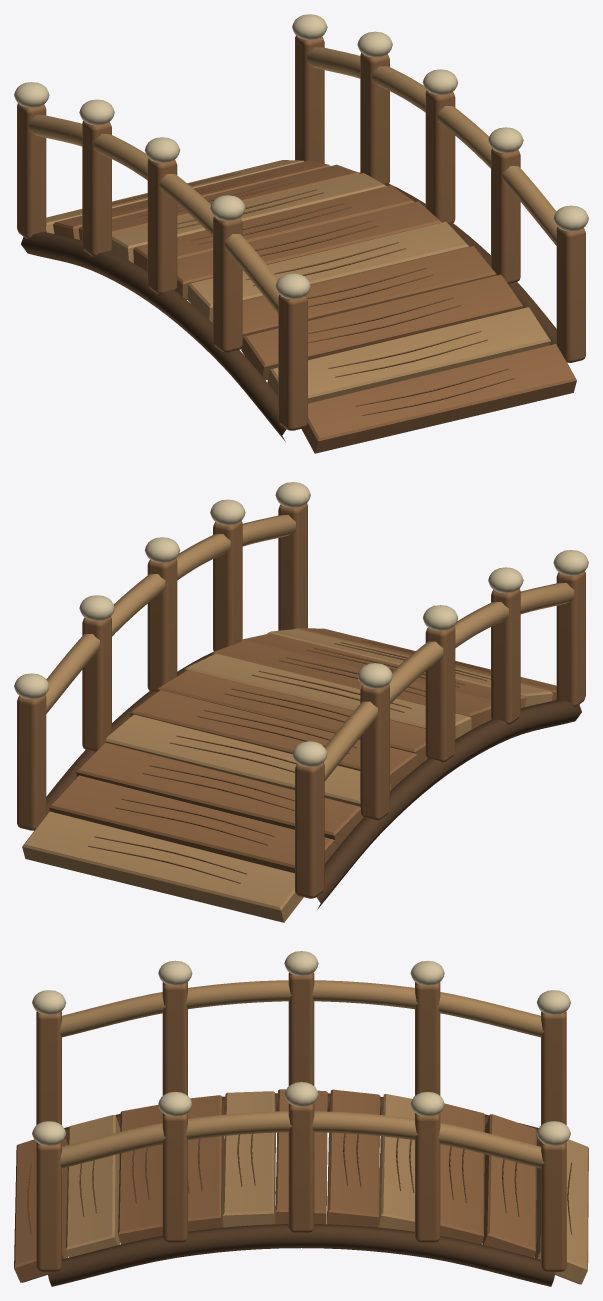
Rendered from puente_madera.glb.
3 views of the same model, one above another, from view 1: azimuth 30°, elevation 25°; view 2: azimuth 150°, elevation 25°; view 3: azimuth 270°, elevation 25° (orthographic). The views are drawn at different scales.
Parts seen in each view (by area): view 1: puente_madera; view 2: puente_madera; view 3: puente_madera.
Boxes of the visible parts, x1,y1,x2,y2 form: puente_madera: [14, 14, 588, 453]; puente_madera: [14, 482, 588, 922]; puente_madera: [14, 951, 588, 1286].
Size of the model in its own units: 1.55 by 1.02 by 2.6.
